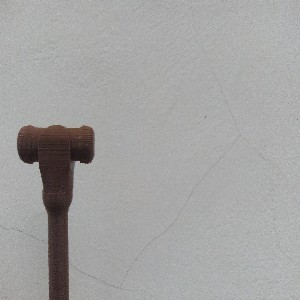palu: (16, 123, 95, 300)
